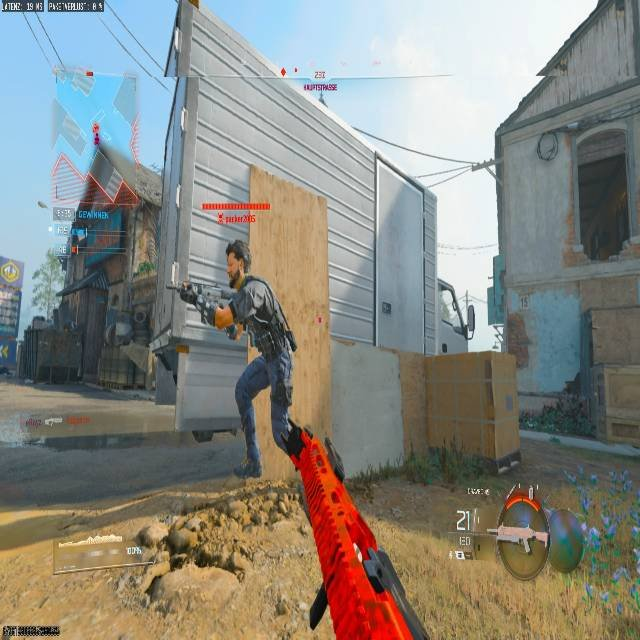head: (224, 239, 251, 284)
player: (184, 238, 297, 474)
